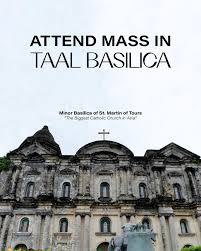taal_basilica_church_taal_batangas: (4, 123, 201, 251)
